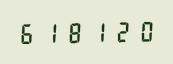eight: (64, 20, 86, 44)
one: (40, 20, 62, 44), (87, 19, 109, 43)
six: (17, 21, 39, 44)
two: (110, 19, 132, 43)
zero: (133, 19, 155, 42)
